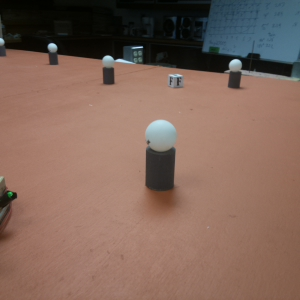blockF: (168, 72, 184, 89)
obstacle: (146, 119, 177, 192), (224, 58, 246, 91), (102, 55, 115, 87), (47, 42, 58, 65), (1, 38, 7, 58)
